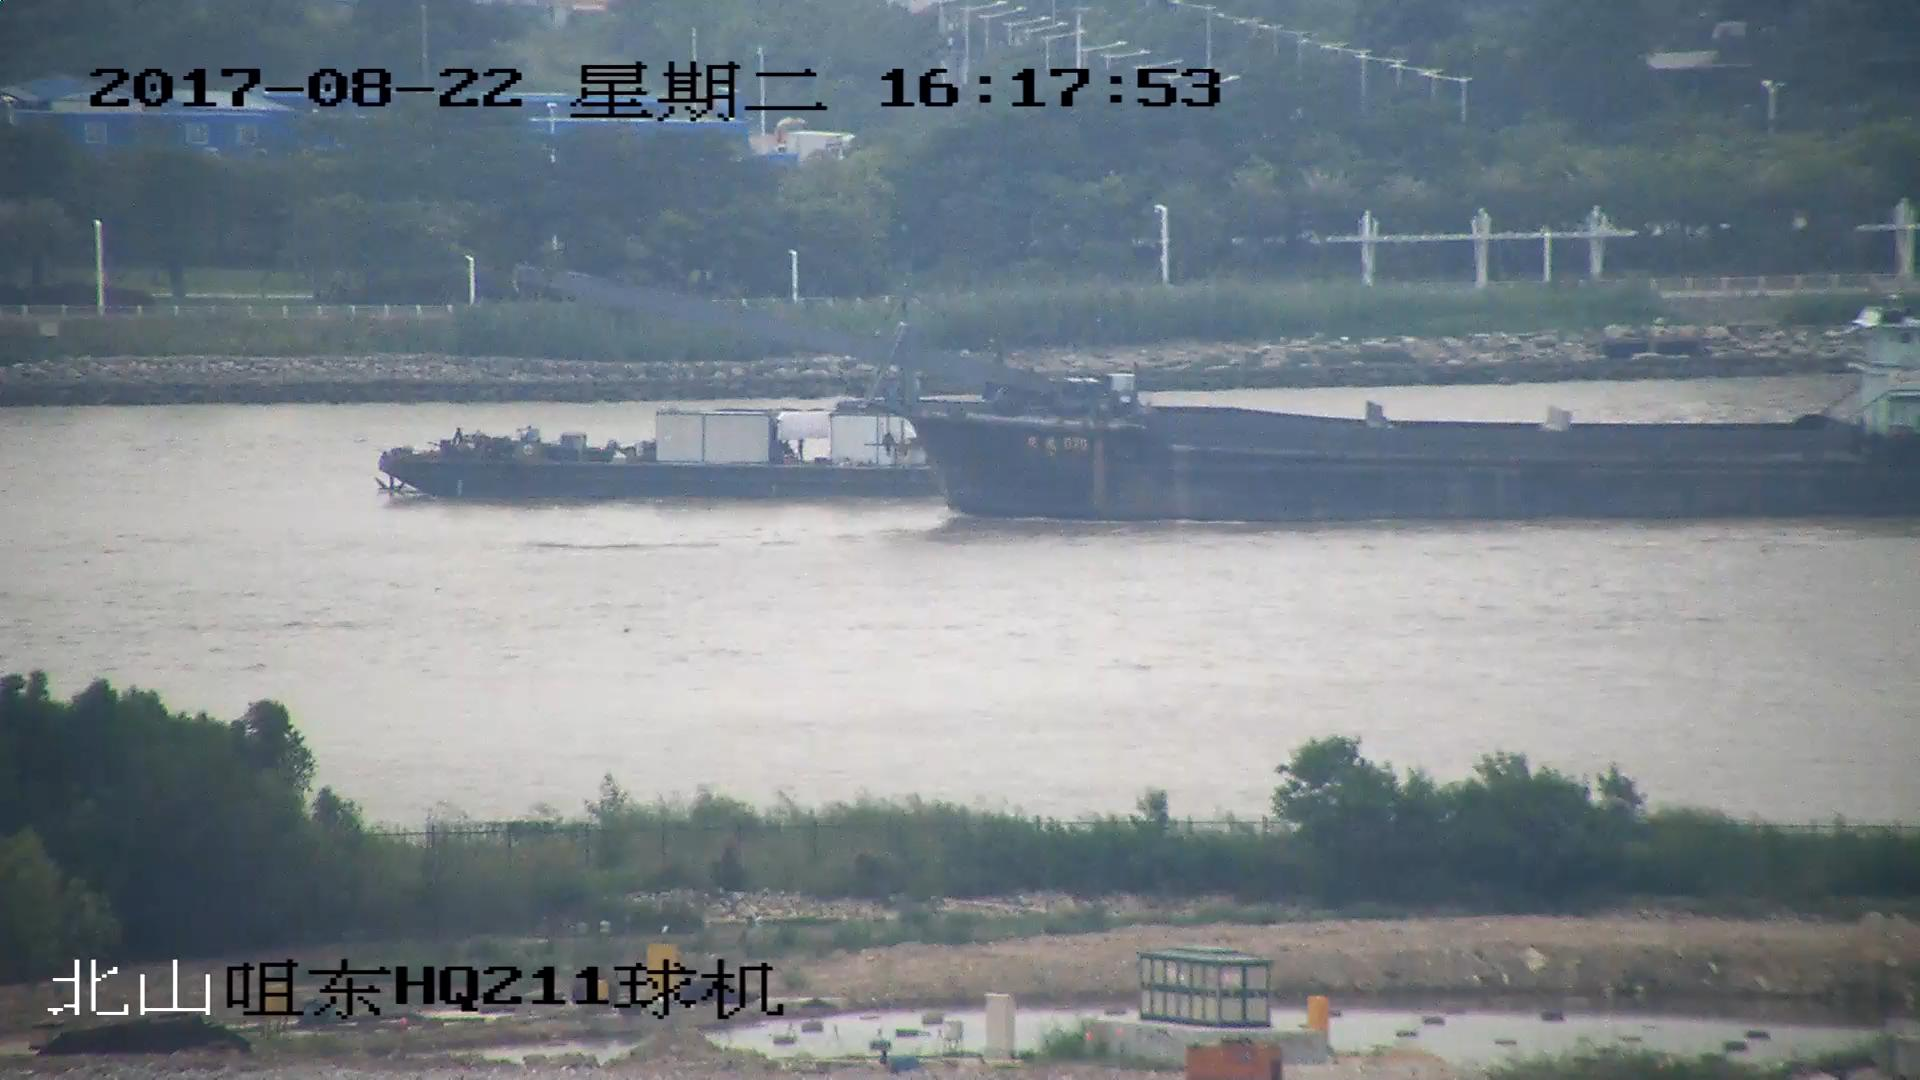bulk cargo carrier: (521, 263, 1920, 525), (372, 390, 1150, 501)
